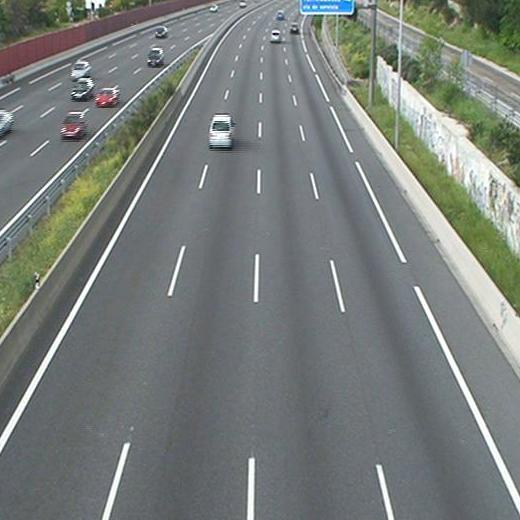car: (208, 115, 233, 147), (270, 29, 280, 42), (290, 23, 299, 32), (276, 9, 284, 18)
